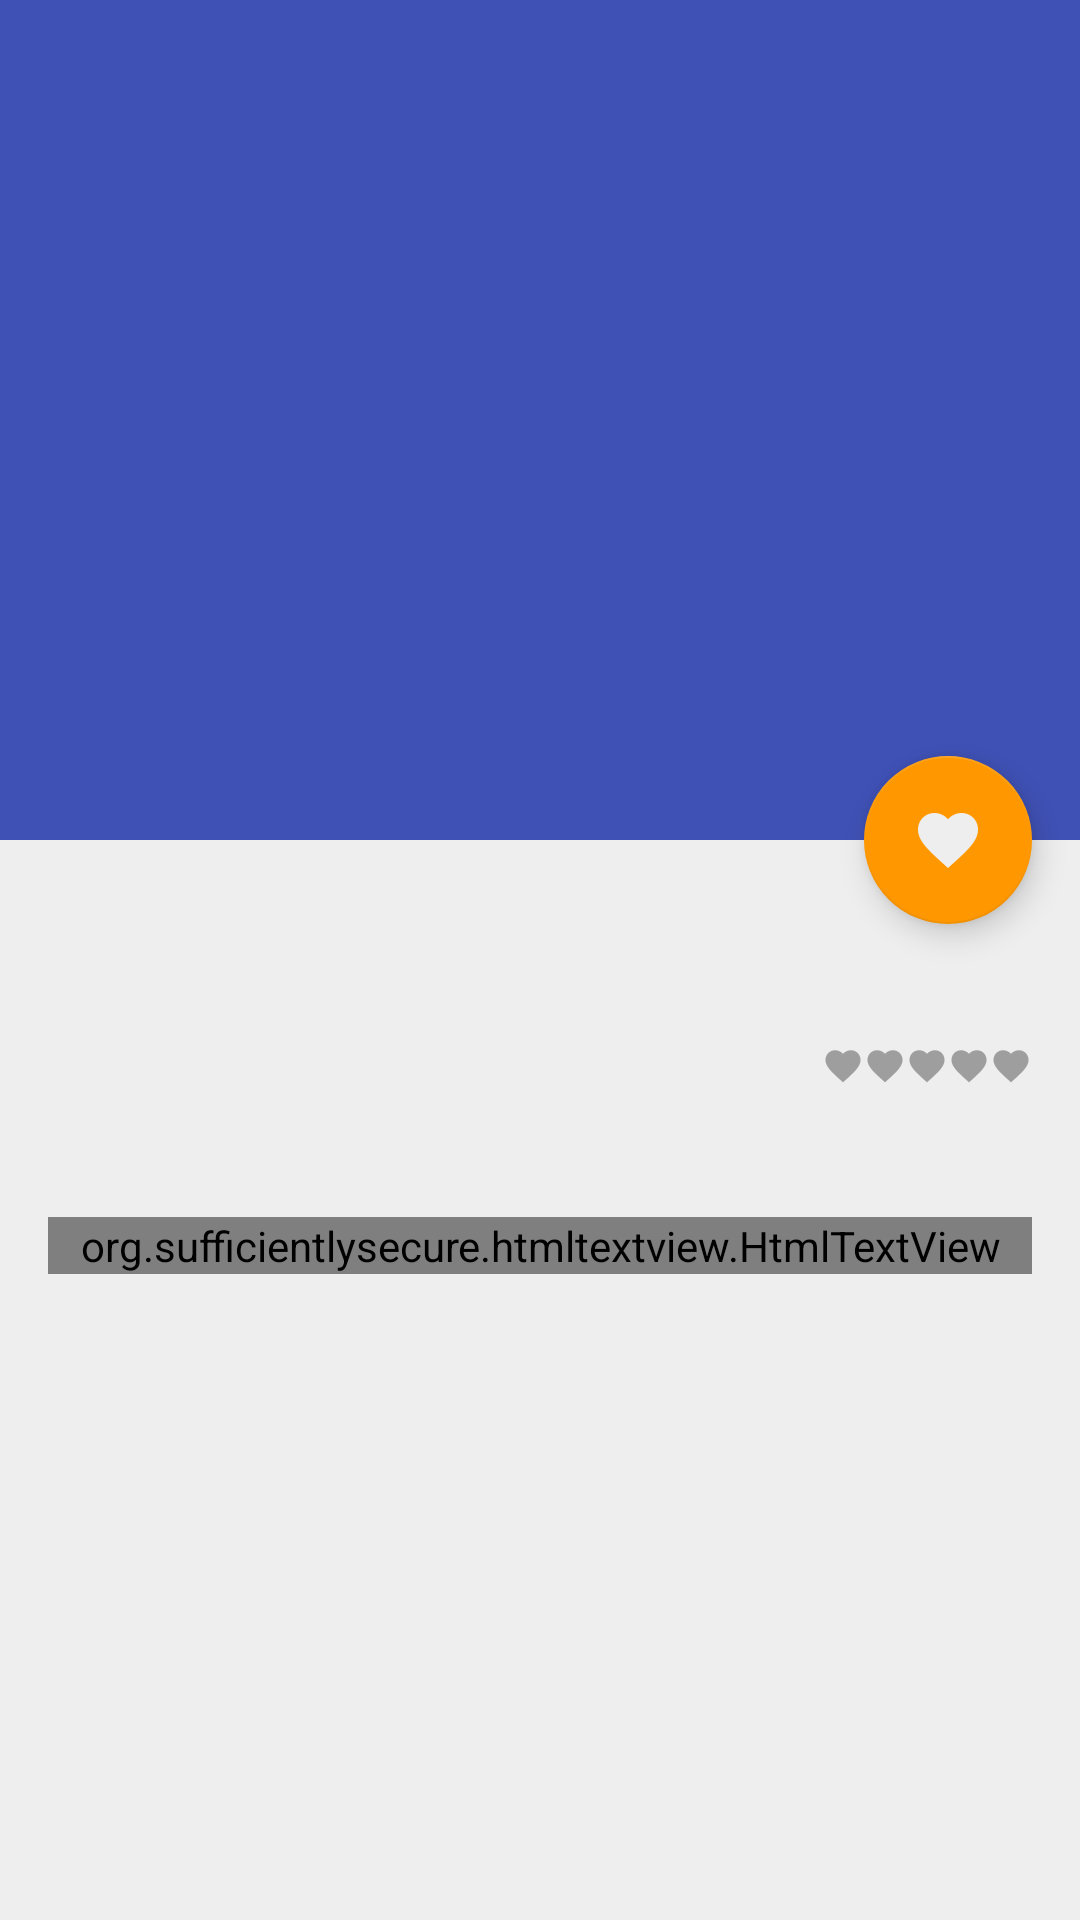

Named icons in this screenshot (1080px×1920px) and their centers, (x=x, y=y):
favorite: (x=948, y=840)
